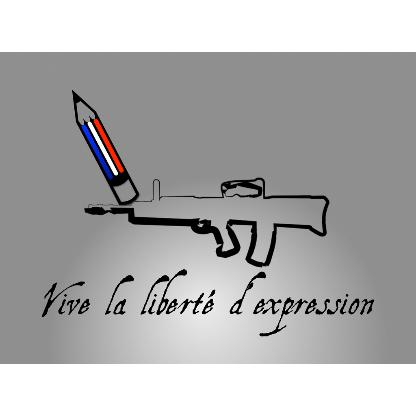gun: (90, 180, 326, 264)
